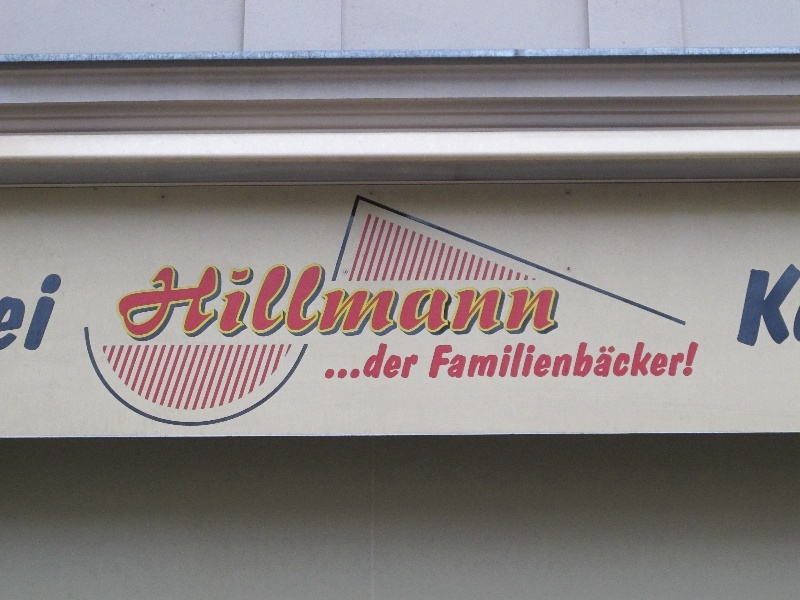text: (753, 263, 768, 351), (769, 263, 784, 351), (785, 263, 800, 351), (1, 267, 16, 351), (17, 267, 32, 351), (33, 267, 48, 351), (49, 267, 64, 351), (129, 263, 144, 343), (145, 263, 160, 343), (161, 263, 176, 343), (177, 263, 192, 343), (193, 263, 208, 343), (209, 263, 224, 343), (225, 263, 240, 343), (241, 263, 256, 343), (257, 263, 272, 343), (273, 263, 288, 343), (289, 263, 304, 343), (305, 263, 320, 343), (321, 263, 336, 343), (337, 263, 352, 343), (353, 263, 368, 343), (369, 263, 384, 343), (385, 263, 400, 343), (401, 263, 416, 343), (417, 263, 432, 343), (433, 263, 448, 343), (449, 263, 464, 343), (465, 263, 480, 343), (481, 263, 496, 343), (497, 263, 512, 343), (513, 263, 528, 343), (529, 263, 544, 343), (545, 263, 560, 343), (115, 263, 128, 343), (449, 340, 464, 379), (465, 340, 480, 379), (481, 340, 496, 379), (497, 340, 512, 379), (513, 340, 528, 379), (529, 340, 544, 379), (545, 340, 560, 379), (561, 340, 576, 379), (577, 340, 592, 379), (593, 340, 608, 379), (609, 340, 624, 379), (625, 340, 640, 379), (641, 340, 656, 379), (657, 340, 672, 379), (673, 340, 688, 379), (385, 343, 400, 380), (401, 343, 416, 380), (435, 340, 448, 379), (689, 340, 701, 379), (65, 267, 68, 351), (417, 343, 422, 380), (751, 263, 752, 351), (561, 263, 562, 343), (382, 343, 384, 380)
